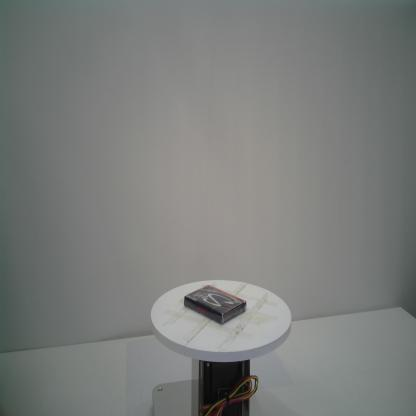Gum: (184, 284, 247, 325)
